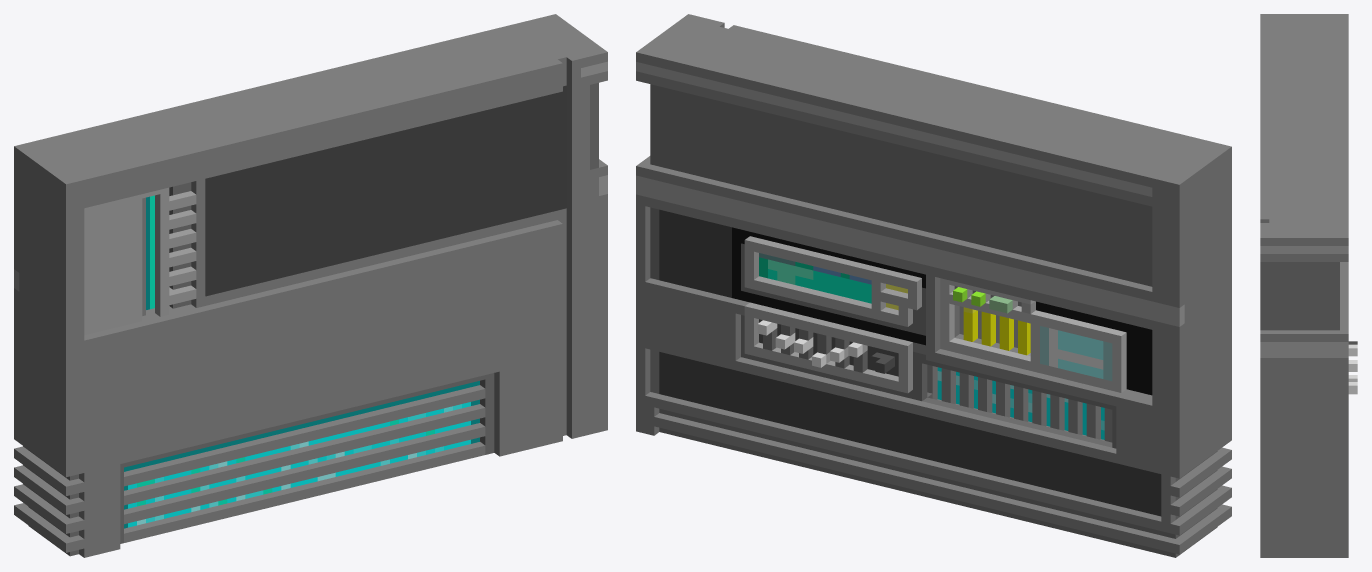
The model's file is Command Wall 2.obj.
3 views of the same model, side by side, from view 1: azimuth 30°, elevation 25°; view 2: azimuth 150°, elevation 25°; view 3: azimuth 270°, elevation 25° (orthographic). The views are drawn at different scales.
Size of the model in its own units: 60 by 40 by 11.
Materials: 1 (1 with a texture image).
